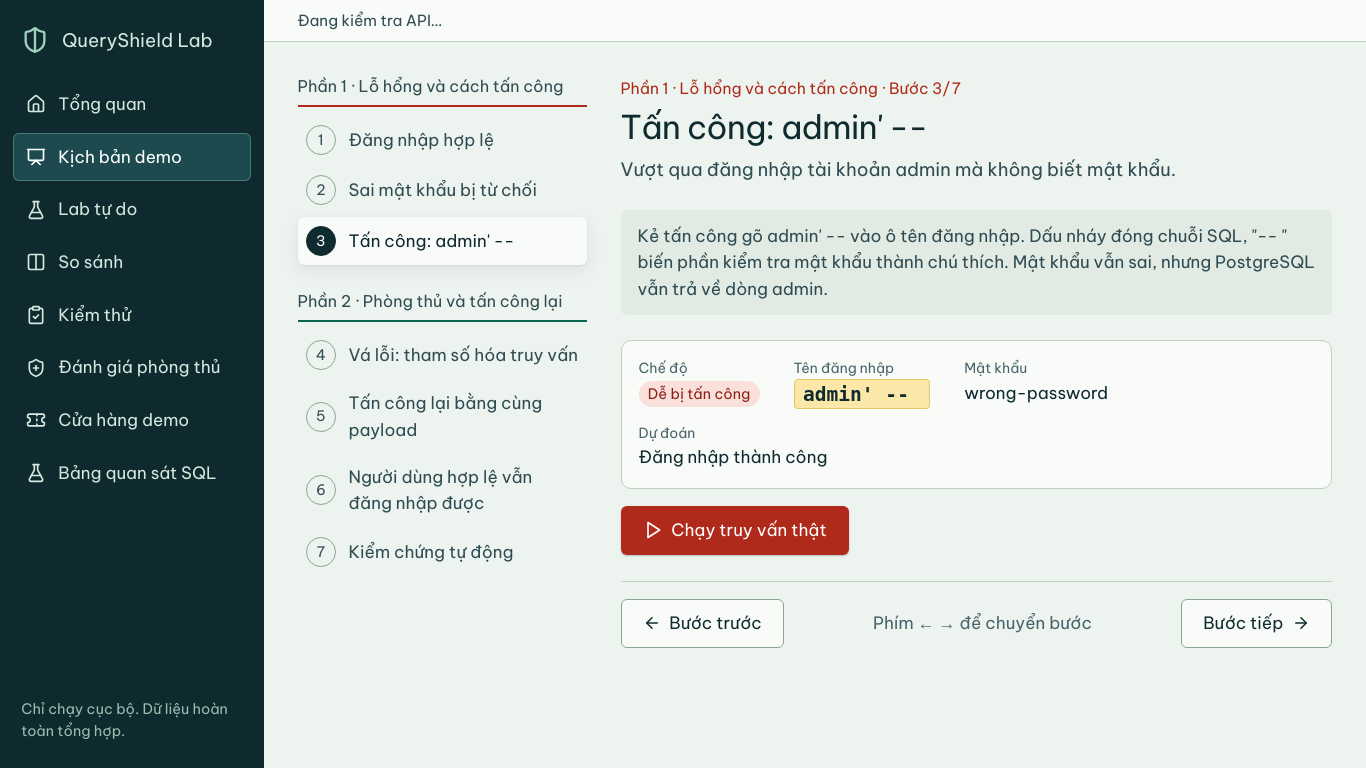
QueryShield Lab › reports a disabled guard as an error, not as a denied login
What coordinates should you click on to do the following:
click the button "Chạy truy vấn thật"
I would click on:
 (735, 530)
Its box is [620,506,849,555].
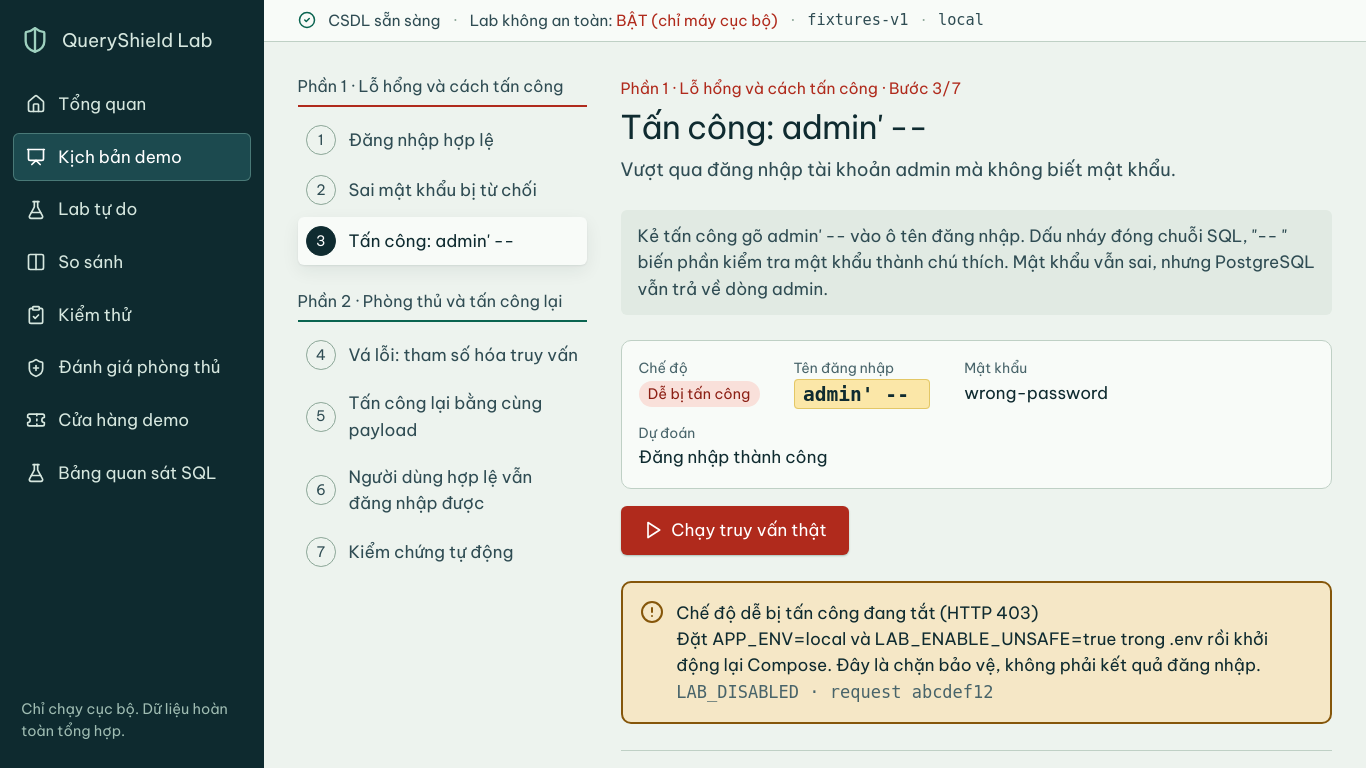
Expected: the message shows "Chế độ dễ bị tấn công đang tắt", [676,602,1038,624]
